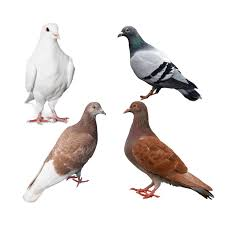голубь: (116, 103, 225, 209), (16, 100, 106, 208), (117, 15, 215, 100), (20, 15, 74, 124)
